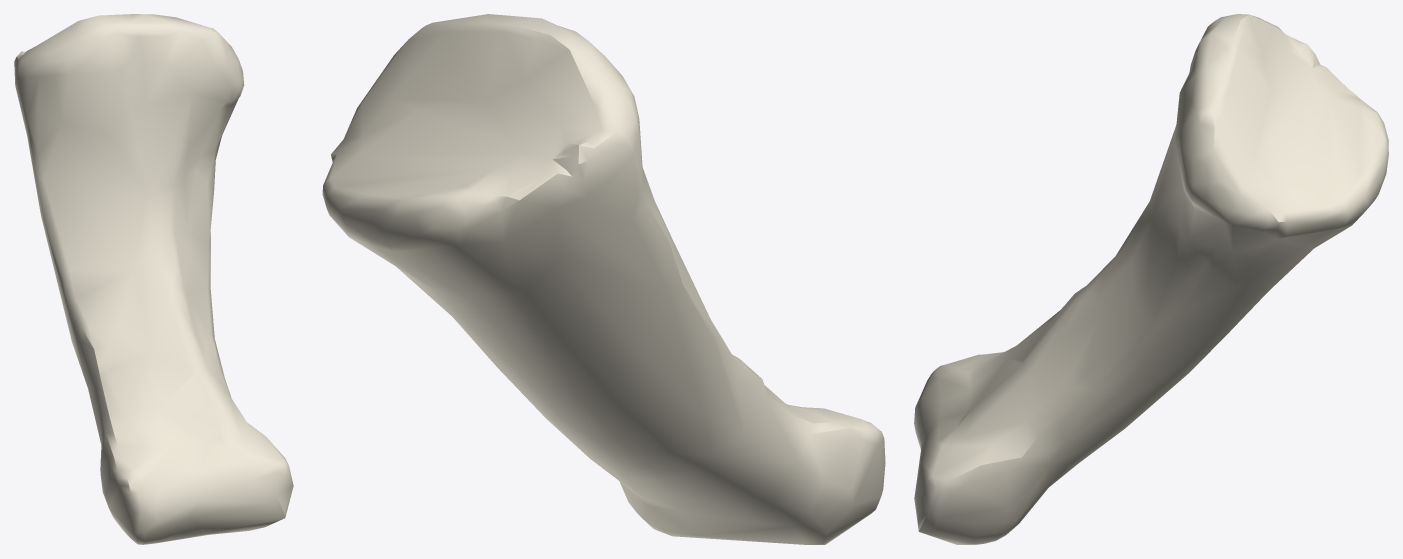
File: fma23944.glb
3 renders of one model, left to right at view 1: azimuth 30°, elevation 25°; view 2: azimuth 150°, elevation 25°; view 3: azimuth 270°, elevation 25°, orthographic. The views are drawn at different scales.
Visible parts, largest first — view 1: FMA23944; view 2: FMA23944; view 3: FMA23944.
Part boxes in pixels (x1,y1,x2,y2): FMA23944: (14,14,293,544); FMA23944: (322,14,885,544); FMA23944: (914,14,1388,544).
Bounding box in the file's own units: 0.0116 × 0.0198 × 0.0168.
